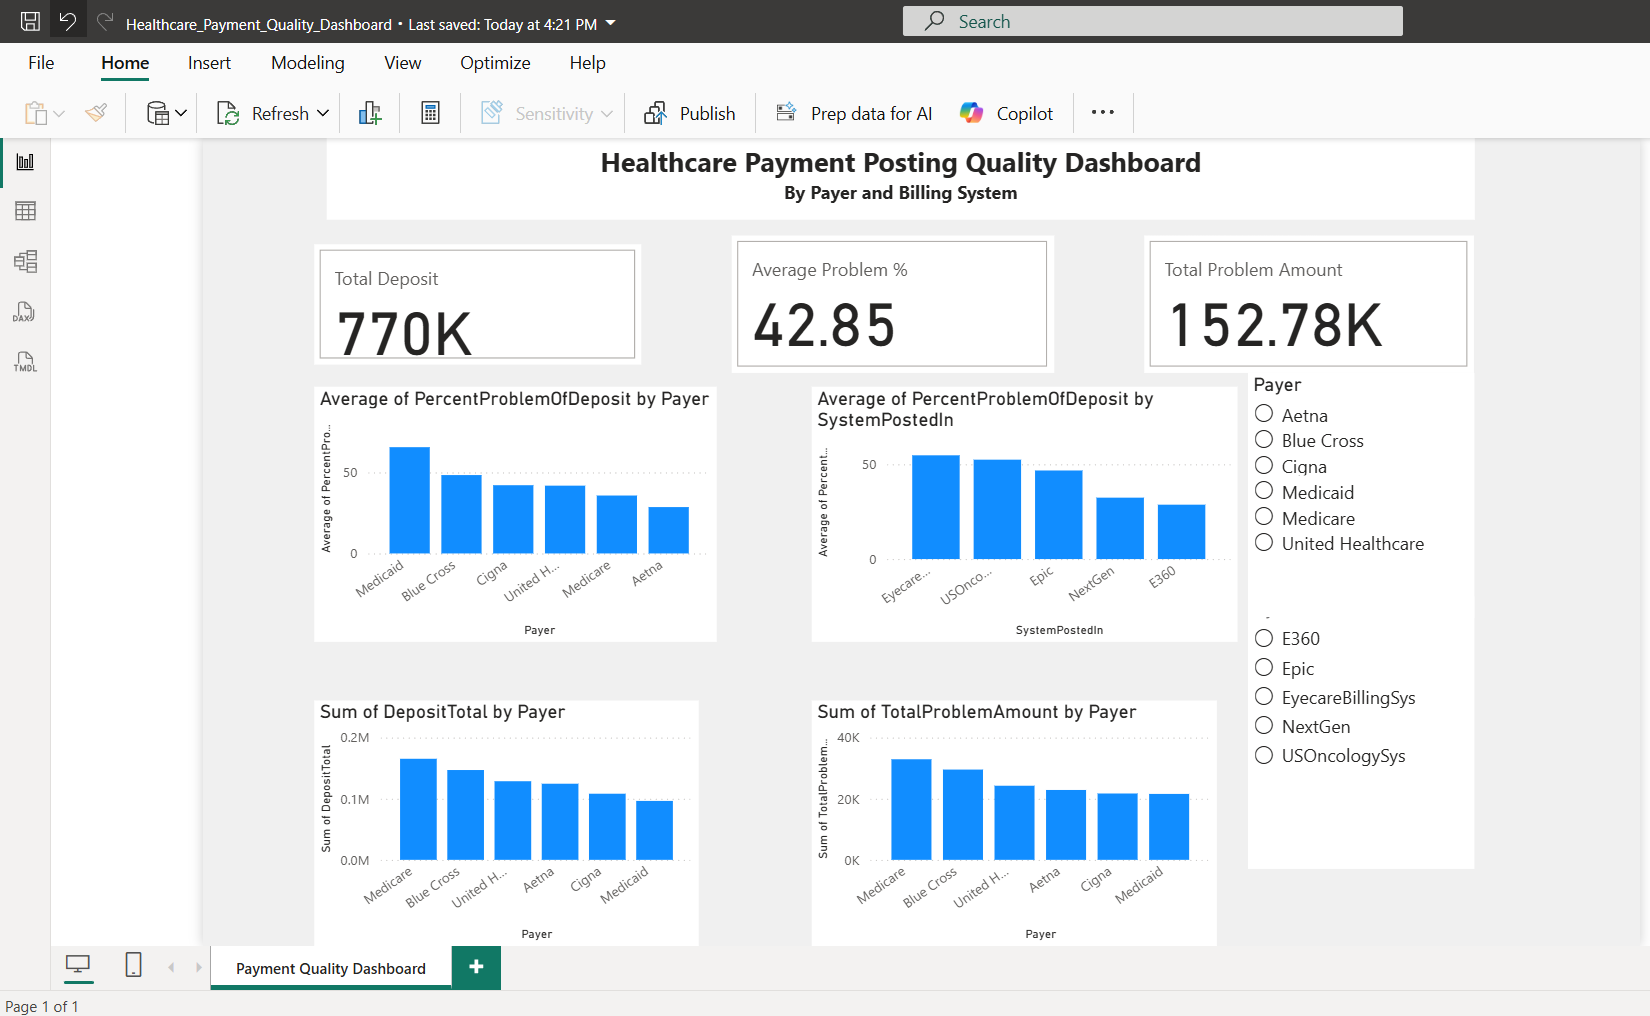

The dashboard page shown, as its layout file describes it:
{"tool":"powerbi","page":{"name":"Payment Quality Dashboard","canvas":[1280,720],"ordinal":0},"visuals":[{"type":"clusteredColumnChart","fields":{"Category":["v_HealthcarePayments.Payer"],"Y":["Avg(v_HealthcarePayments.PercentProblemOfDeposit)"]},"box":[99,221.3,358.3,227.4],"z":0},{"type":"clusteredColumnChart","fields":{"Category":["v_HealthcarePayments.Payer"],"Y":["Sum(v_HealthcarePayments.TotalProblemAmount)"]},"box":[541.7,501.4,360.7,218.9],"z":1000},{"type":"clusteredColumnChart","fields":{"Category":["v_HealthcarePayments.Payer"],"Y":["Sum(v_HealthcarePayments.DepositTotal)"]},"box":[99,501.4,342.4,218.9],"z":2000},{"type":"clusteredColumnChart","fields":{"Category":["v_HealthcarePayments.SystemPostedIn"],"Y":["Avg(v_HealthcarePayments.PercentProblemOfDeposit)"]},"box":[541.7,221.3,379.1,227.4],"z":3000},{"type":"cardVisual","fields":{"Data":["v_HealthcarePayments.Total Deposit"]},"box":[98.9,94.3,291.2,107.3],"z":4000},{"type":"cardVisual","fields":{"Data":["v_HealthcarePayments.Total Problem Amount"]},"box":[838.7,86.6,293.9,122.6],"z":5000},{"type":"cardVisual","fields":{"Data":["v_HealthcarePayments.Average Problem %"]},"box":[470.9,86.6,287,122.6],"z":6000},{"type":"listSlicer","fields":{"Values":["v_HealthcarePayments.SystemPostedIn"]},"box":[930.2,409,201.5,242.5],"z":7000},{"type":"listSlicer","fields":{"Values":["v_HealthcarePayments.Payer"]},"box":[930.6,209.1,201.8,217.7],"z":8000},{"type":"textbox","box":[110.1,0,1022.6,72.4],"z":9000}]}

Visuals, with their boxes on the page's 1280x720 design canvas (x1, y1, x2, y2). These are canvas units, not pixel positions in the 1650x1016 screenshot, which may show the page scaled, cropped or inside an application window:
clusteredColumnChart - v_HealthcarePayments.Payer x Avg(v_HealthcarePayments.PercentProblemOfDeposit): [x1=99, y1=221, x2=457, y2=449]
clusteredColumnChart - v_HealthcarePayments.Payer x Sum(v_HealthcarePayments.TotalProblemAmount): [x1=542, y1=501, x2=902, y2=720]
clusteredColumnChart - v_HealthcarePayments.Payer x Sum(v_HealthcarePayments.DepositTotal): [x1=99, y1=501, x2=441, y2=720]
clusteredColumnChart - v_HealthcarePayments.SystemPostedIn x Avg(v_HealthcarePayments.PercentProblemOfDeposit): [x1=542, y1=221, x2=921, y2=449]
cardVisual - v_HealthcarePayments.Total Deposit: [x1=99, y1=94, x2=390, y2=202]
cardVisual - v_HealthcarePayments.Total Problem Amount: [x1=839, y1=87, x2=1133, y2=209]
cardVisual - v_HealthcarePayments.Average Problem %: [x1=471, y1=87, x2=758, y2=209]
listSlicer - v_HealthcarePayments.SystemPostedIn: [x1=930, y1=409, x2=1132, y2=652]
listSlicer - v_HealthcarePayments.Payer: [x1=931, y1=209, x2=1132, y2=427]
textbox: [x1=110, y1=0, x2=1133, y2=72]
